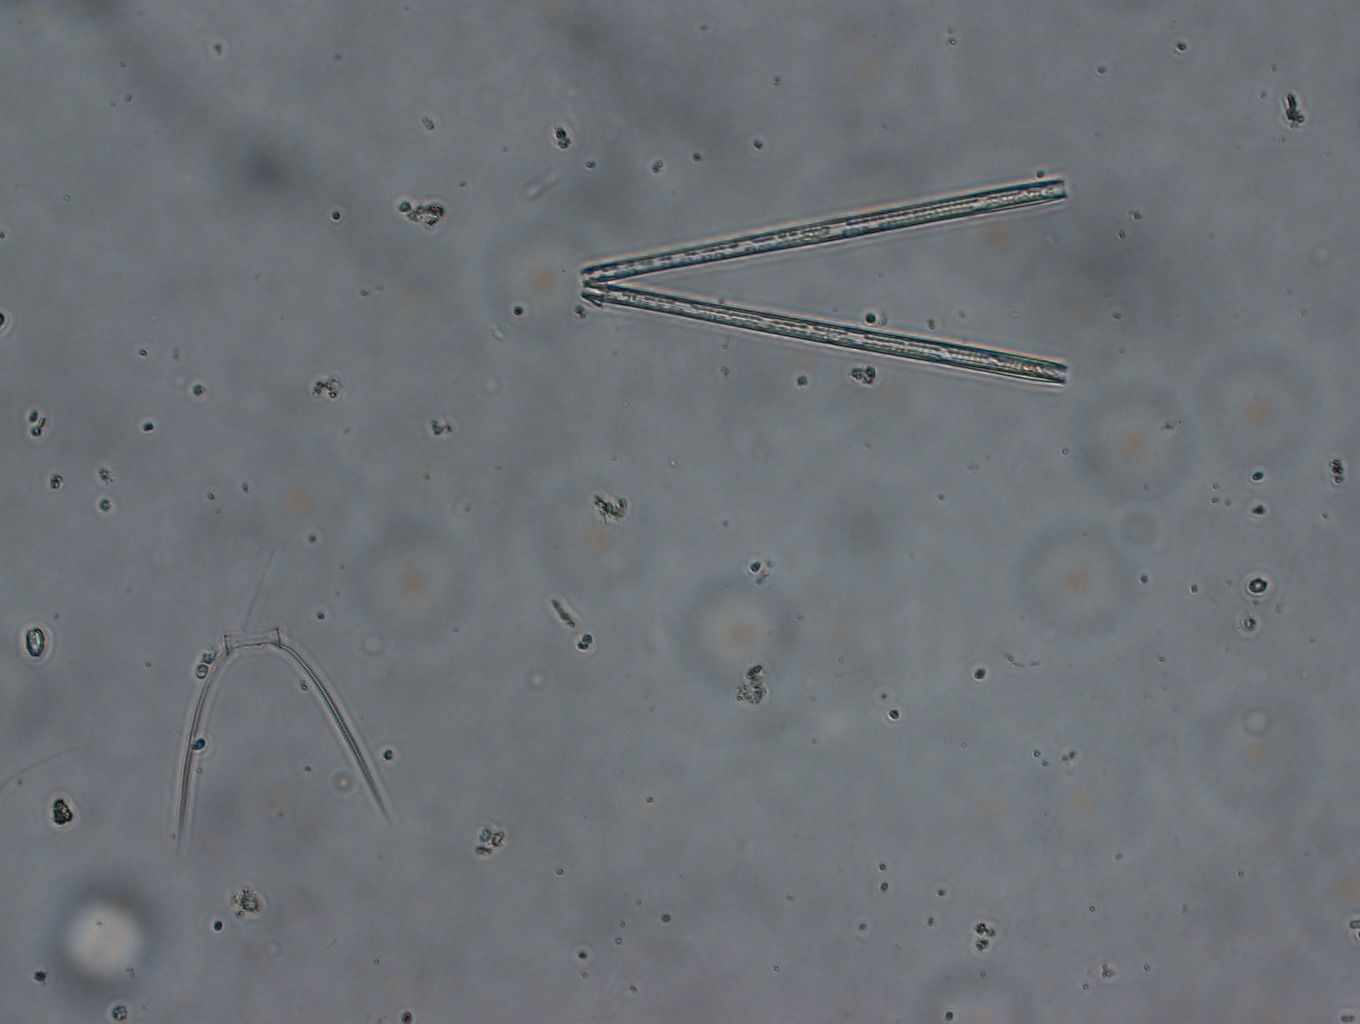chaetoceros: (148, 610, 398, 861)
thalassionema frauenfeldii: (569, 159, 1079, 400)
